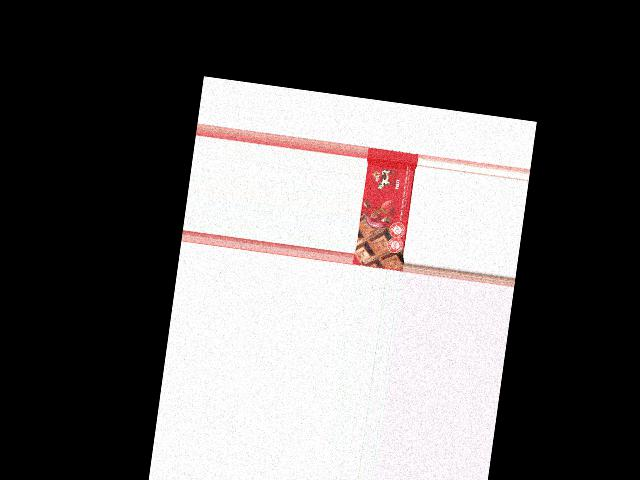chocolate: (353, 146, 419, 270)
